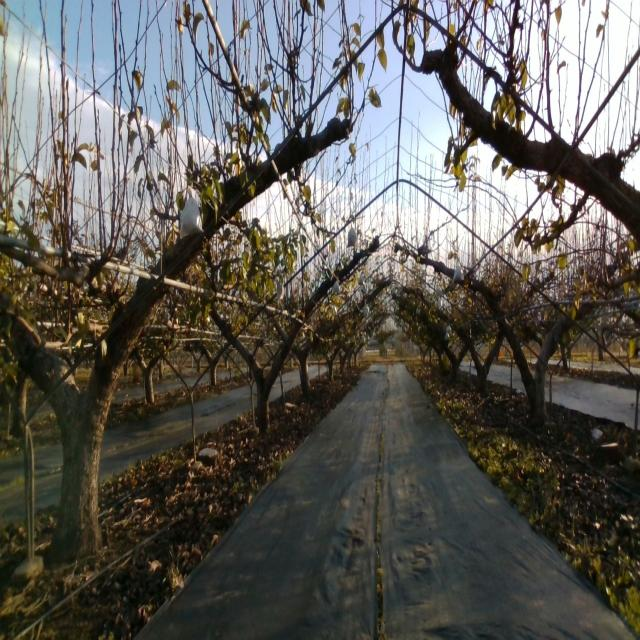pearbags: (178, 186, 204, 240), (346, 221, 359, 248), (453, 264, 464, 283)
